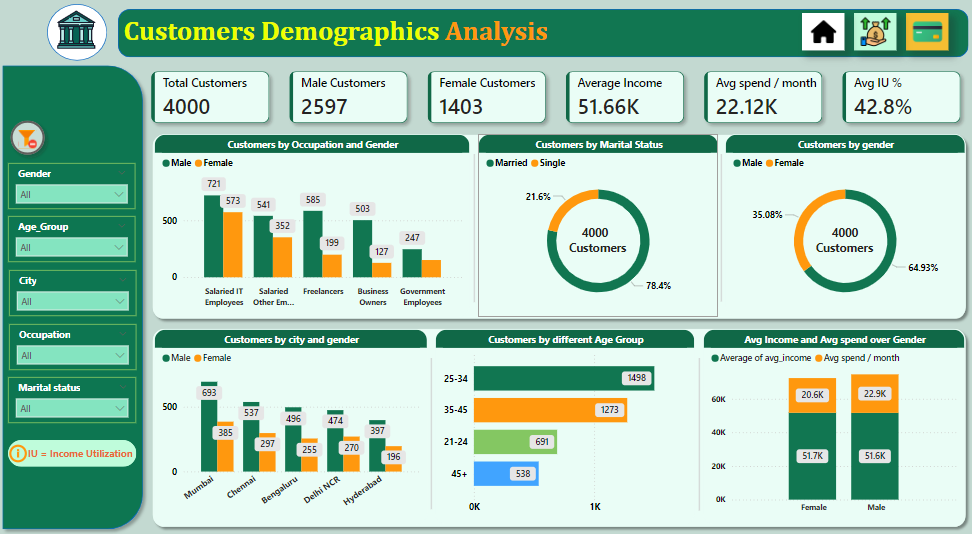

The dashboard page shown, as its layout file describes it:
{"tool":"powerbi","page":{"name":"Customer - 1","canvas":[1360,725],"ordinal":1},"visuals":[{"type":"shape","box":[0.2,77.3,213,645],"z":0},{"type":"shape","box":[66.5,5.8,83,77],"z":1000,"group":"g1"},{"type":"shape","box":[212.1,428.2,1144,291],"z":1000},{"type":"shape","box":[210.7,179.4,1143,253],"z":2000},{"type":"shape","box":[169.8,13.2,1176.6,67.3],"z":3000},{"type":"card","title":"Avg Income Utilisation %","fields":{"Values":["Key Measures.Avg income utilisation %"]},"box":[1178,90.2,168.3,89.3],"z":4000},{"type":"lineClusteredColumnComboChart","title":"Customers by City and Gender","fields":{"Y":["CountNonNull(dim_customers.customer_id)"],"Category":["dim_customers.city"],"Series":["dim_customers.gender"]},"box":[222.4,437.5,383.4,269],"z":5000},{"type":"card","fields":{"Values":["Key Measures.avg_income"]},"box":[793.1,90.2,158,89.3],"z":6000},{"type":"image","box":[63,1.5,89,76],"z":7000,"group":"g1"},{"type":"card","fields":{"Values":["Key Measures.avg_spend"]},"box":[989.2,90.2,158,87.8],"z":7000},{"type":"slicer","fields":{"Values":["dim_customers.occupation"]},"box":[15.4,397.6,177,64.4],"z":8000},{"type":"slicer","fields":{"Values":["dim_customers.city"]},"box":[16.9,325.9,177,64.4],"z":9000},{"type":"slicer","fields":{"Values":["dim_customers.gender"]},"box":[16.9,181,177,64.4],"z":10000},{"type":"slicer","fields":{"Values":["dim_customers.marital status"]},"box":[16.9,470.8,177,64.4],"z":11000},{"type":"slicer","fields":{"Values":["dim_customers.age_group"]},"box":[16.9,254.2,177,64.4],"z":12000},{"type":"clusteredBarChart","title":"Customers by different Age Group","fields":{"Category":["dim_customers.age_group"],"Y":["CountNonNull(dim_customers.customer_id)"]},"box":[614.6,437,361.5,269.3],"z":13000},{"type":"group","id":"g1","title":"Group 1","box":[63,1.5,89,81.3],"z":14000},{"type":"actionButton","box":[19.9,112.2,65.2,65.2],"z":15000},{"type":"textbox","box":[169.4,17.6,598.5,58.5],"z":17000},{"type":"image","box":[1205.4,20.5,60,52.7],"z":18000},{"type":"image","box":[1278.6,19,55.6,55.6],"z":19000},{"type":"image","box":[1130.8,20.5,60,52.7],"z":20000},{"type":"lineStackedColumnComboChart","title":"Avg Income, Spend & Income utilization by Age Group","fields":{"Y2":["Key Measures.Avg income utilisation %"],"Y":["Key Measures.avg_income","Key Measures.avg_spend"],"Category":["dim_customers.age_group"]},"box":[981.9,437,364.4,269.3],"z":21000},{"type":"card","fields":{"Values":["CountNonNull(dim_customers.customer_id)"]},"box":[222.4,90.2,158,89.3],"z":22000},{"type":"donutChart","title":"Customers by different Age Group","fields":{"Category":["dim_customers.gender"],"Y":["CountNonNull(dim_customers.gender)"]},"box":[1012.6,185.7,331,234],"z":23000},{"type":"donutChart","title":"Customers by different Age Group","fields":{"Category":["dim_customers.marital status"],"Y":["CountNonNull(dim_customers.marital status)"]},"box":[671.6,186.4,332,234],"z":24000},{"type":"lineClusteredColumnComboChart","title":"Customers by Occupation and Gender","fields":{"Category":["dim_customers.occupation"],"Y":["CountNonNull(dim_customers.customer_id)"],"Series":["dim_customers.gender"]},"box":[220.9,187.8,440.5,234],"z":25000},{"type":"shape","box":[659.9,215.3,12,190],"z":26000},{"type":"shape","box":[1002.4,215.3,12,190.2],"z":27000},{"type":"shape","box":[605.8,477,12,210],"z":28000},{"type":"shape","box":[973.1,476.5,11.7,210.7],"z":29000},{"type":"card","fields":{"Values":["CountNonNull(dim_customers.customer_id)"]},"box":[409.7,90.2,158,89.3],"z":30000},{"type":"card","fields":{"Values":["CountNonNull(dim_customers.customer_id)"]},"box":[598.5,90.2,158,89.3],"z":31000}]}

Visuals, with their boxes in screenshot pixels (x1, y1, x2, y2), scaled from the page's 1360x725 canvas onto the 972x534 screenshot:
shape: l=0, t=57, r=152, b=532
shape: l=48, t=4, r=107, b=61
shape: l=152, t=315, r=969, b=530
shape: l=151, t=132, r=967, b=318
shape: l=121, t=10, r=962, b=59
"Avg Income Utilisation %" card: l=842, t=66, r=962, b=132
"Customers by City and Gender" lineClusteredColumnComboChart: l=159, t=322, r=433, b=520
card - Key Measures.avg_income: l=567, t=66, r=680, b=132
image: l=45, t=1, r=109, b=57
card - Key Measures.avg_spend: l=707, t=66, r=820, b=131
slicer - dim_customers.occupation: l=11, t=293, r=138, b=340
slicer - dim_customers.city: l=12, t=240, r=139, b=287
slicer - dim_customers.gender: l=12, t=133, r=139, b=181
slicer - dim_customers.marital status: l=12, t=347, r=139, b=394
slicer - dim_customers.age_group: l=12, t=187, r=139, b=235
"Customers by different Age Group" clusteredBarChart: l=439, t=322, r=698, b=520
"Group 1" group: l=45, t=1, r=109, b=61
actionButton: l=14, t=83, r=61, b=131
textbox: l=121, t=13, r=549, b=56
image: l=862, t=15, r=904, b=54
image: l=914, t=14, r=954, b=55
image: l=808, t=15, r=851, b=54
"Avg Income, Spend & Income utilization by Age Group" lineStackedColumnComboChart: l=702, t=322, r=962, b=520
card - CountNonNull(dim_customers.customer_id): l=159, t=66, r=272, b=132
"Customers by different Age Group" donutChart: l=724, t=137, r=960, b=309
"Customers by different Age Group" donutChart: l=480, t=137, r=717, b=310
"Customers by Occupation and Gender" lineClusteredColumnComboChart: l=158, t=138, r=473, b=311
shape: l=472, t=159, r=480, b=299
shape: l=716, t=159, r=725, b=299
shape: l=433, t=351, r=442, b=506
shape: l=695, t=351, r=704, b=506
card - CountNonNull(dim_customers.customer_id): l=293, t=66, r=406, b=132
card - CountNonNull(dim_customers.customer_id): l=428, t=66, r=541, b=132
